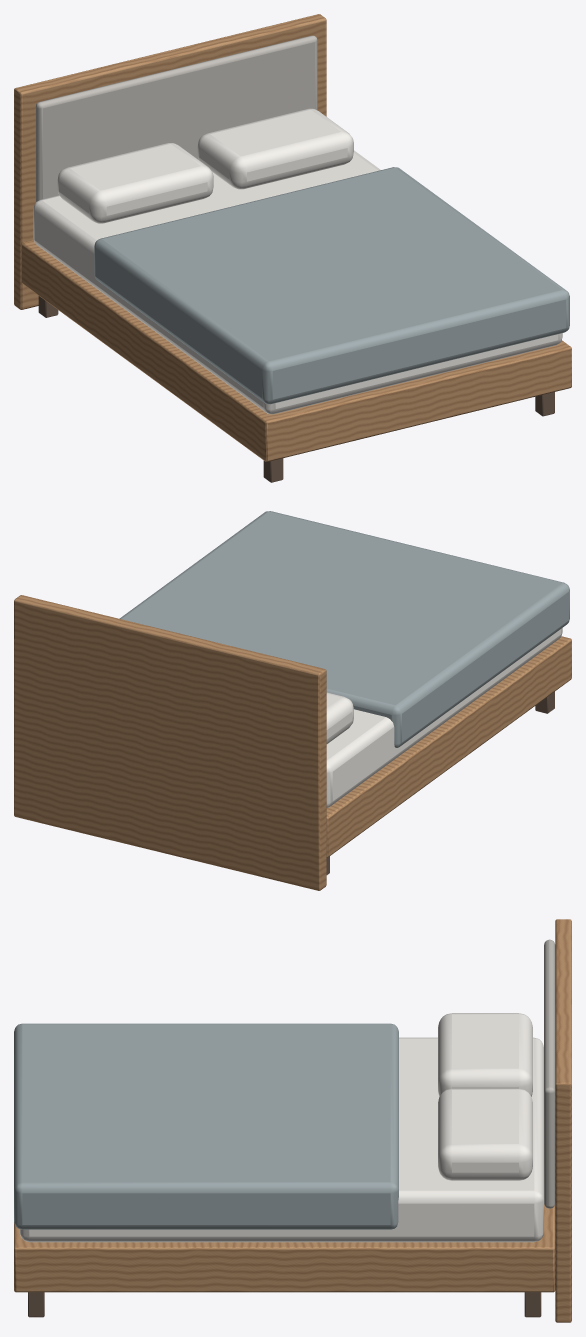
File: bed-double-140.raw.glb
3 renders of one model, top to bottom at view 1: azimuth 30°, elevation 25°; view 2: azimuth 150°, elevation 25°; view 3: azimuth 270°, elevation 25°, orthographic. The views are drawn at different scales.
Visible parts, largest first — view 1: bed-double-140; view 2: bed-double-140; view 3: bed-double-140.
Boxes of the visible parts, x1,y1,x2,y2 form: bed-double-140: (14, 14, 571, 482); bed-double-140: (14, 511, 571, 890); bed-double-140: (14, 919, 571, 1322).
Bounding box in the file's own units: 1.4 × 0.95 × 2.
5 materials, 1 textured.
